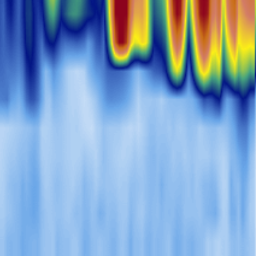defect: (100, 1, 154, 82), (190, 1, 226, 110), (227, 1, 254, 120), (159, 1, 190, 94), (20, 1, 41, 104), (41, 1, 63, 65), (65, 1, 91, 44), (4, 1, 18, 54)
